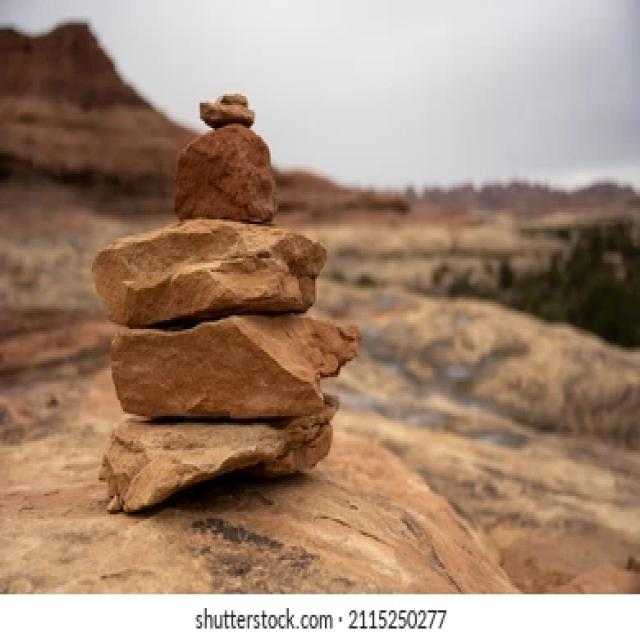stone: (102, 402, 333, 510), (112, 315, 358, 416), (92, 219, 323, 325), (174, 94, 276, 222)
